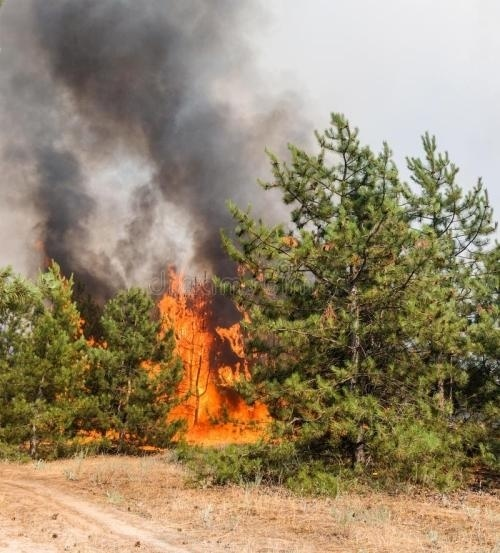fire: (145, 258, 282, 446)
